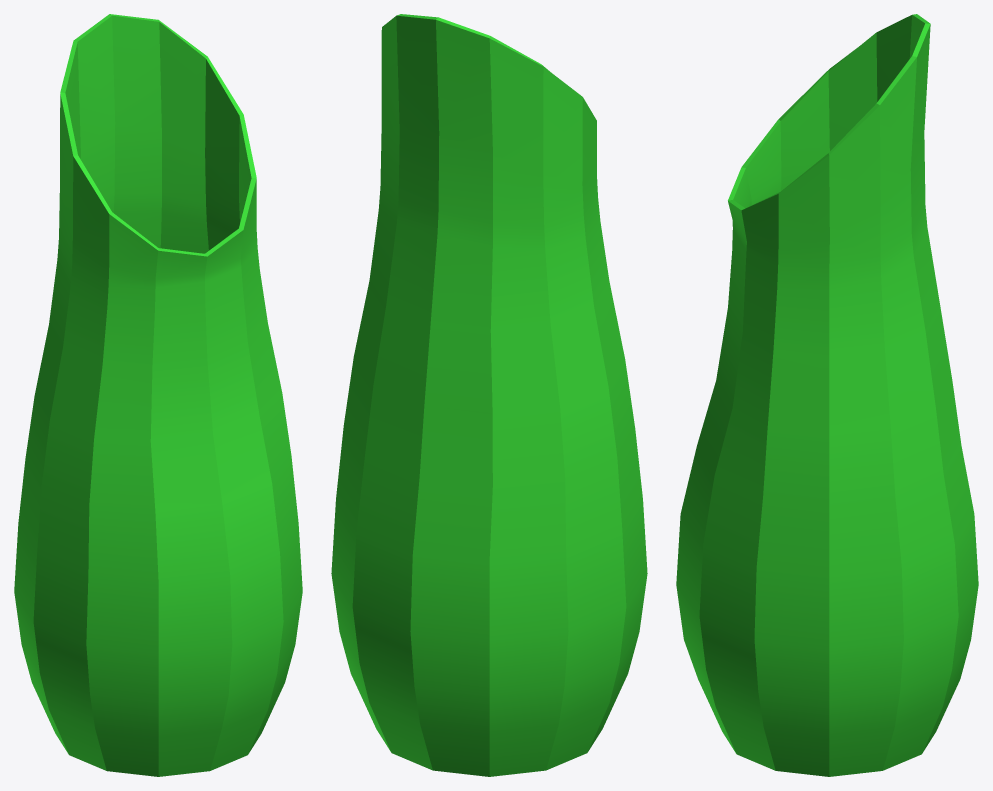
Rendered from Vase_01.fbx.
3 views of the same model, side by side, from view 1: azimuth 30°, elevation 25°; view 2: azimuth 150°, elevation 25°; view 3: azimuth 270°, elevation 25° (orthographic). The views are drawn at different scales.
Visible parts, largest first — view 1: Vase_01; view 2: Vase_01; view 3: Vase_01.
Boxes of the visible parts, x1,y1,x2,y2 form: Vase_01: [14, 14, 302, 776]; Vase_01: [331, 14, 647, 776]; Vase_01: [676, 14, 978, 776].
Bounding box in the file's own units: 27.76 × 72.56 × 28.08.
